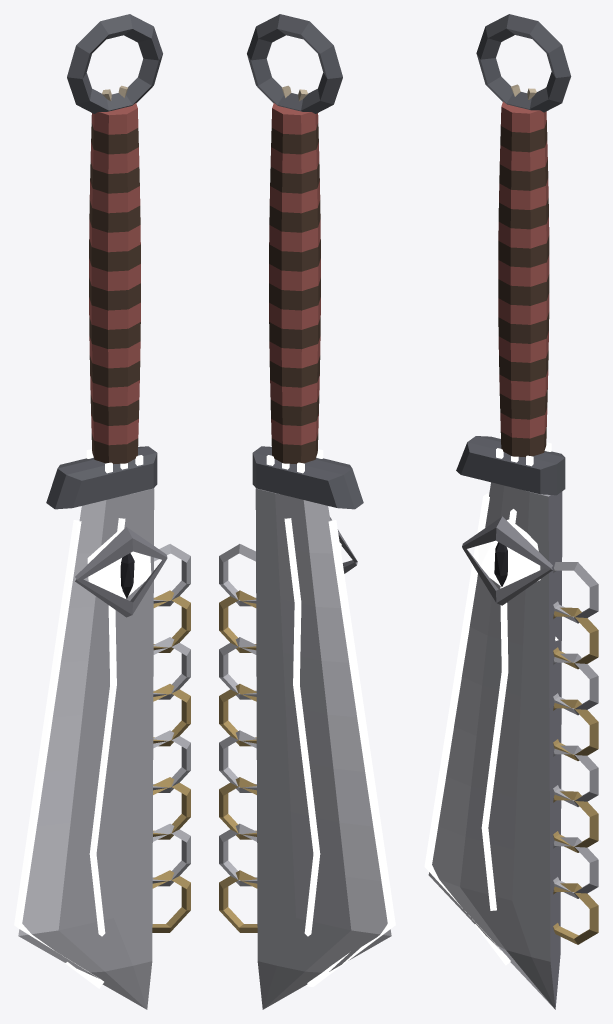
File: blade-last-beat.glb
The picture shows the model from 3 angles, left to right: view 1: azimuth 30°, elevation 25°; view 2: azimuth 150°, elevation 25°; view 3: azimuth 330°, elevation 25°; orthographic projection.
Parts seen in each view (by area): view 1: blade-last-beat, blink_eye, pulse_vein; view 2: blade-last-beat, pulse_vein; view 3: blade-last-beat, blink_eye, pulse_vein.
Boxes of the visible parts, x1,y1,x2,y2 form: blade-last-beat: [14, 14, 190, 1009]; blink_eye: [75, 527, 167, 617]; pulse_vein: [89, 518, 125, 936]; blade-last-beat: [219, 14, 395, 1009]; pulse_vein: [284, 518, 320, 936]; blade-last-beat: [424, 14, 598, 1009]; blink_eye: [462, 516, 552, 605]; pulse_vein: [481, 509, 516, 910].
Bounding box in the file's own units: 0.2302 × 1.26 × 0.0838.
